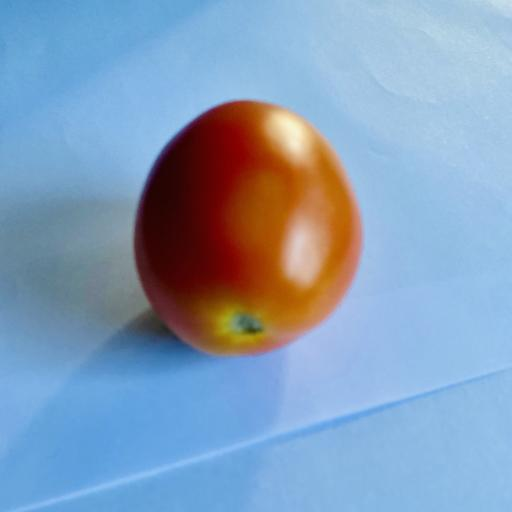ripe: (135, 101, 361, 355)
